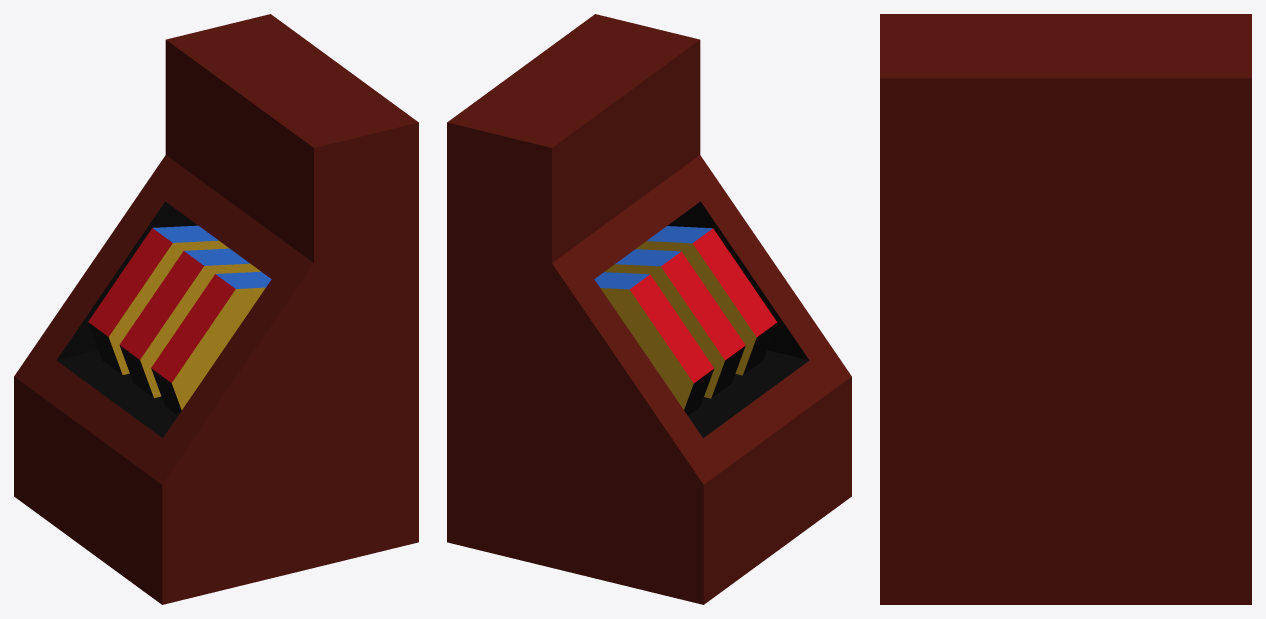
File: Tragaperras.fbx
3 views of the same model, side by side, from view 1: azimuth 30°, elevation 25°; view 2: azimuth 150°, elevation 25°; view 3: azimuth 270°, elevation 25° (orthographic). The views are drawn at different scales.
Visible parts, largest first — view 1: Cube, Cylinder.002, Cylinder.001, Cylinder.003; view 2: Cube, Cylinder.003, Cylinder.002, Cylinder.001; view 3: Cube.
Boxes of the visible parts, x1,y1,x2,y2 form: Cube: (14,14,418,604); Cylinder.002: (151,271,271,415); Cylinder.001: (119,248,260,397); Cylinder.003: (88,225,229,374); Cube: (447,14,851,604); Cylinder.003: (594,272,714,415); Cylinder.002: (636,226,777,375); Cylinder.001: (604,249,745,398); Cube: (880,14,1251,604).
Size of the model in its own units: 2 by 3.13 by 2.
